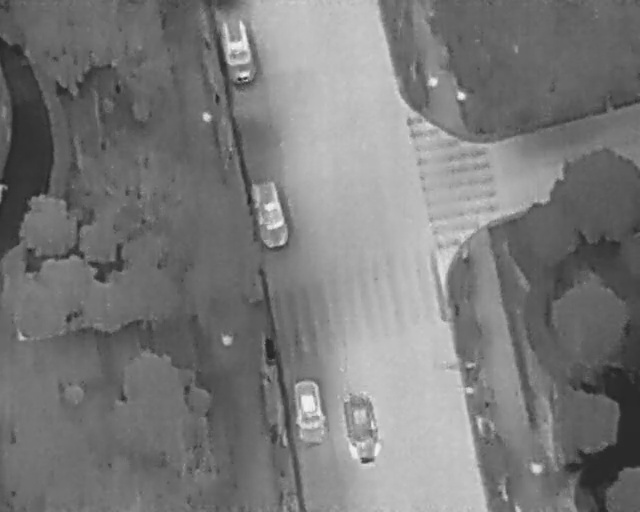Car: (213, 15, 261, 89), (338, 386, 382, 466), (248, 178, 290, 251), (292, 377, 330, 445)
Person: (529, 459, 544, 474), (221, 330, 233, 346)
